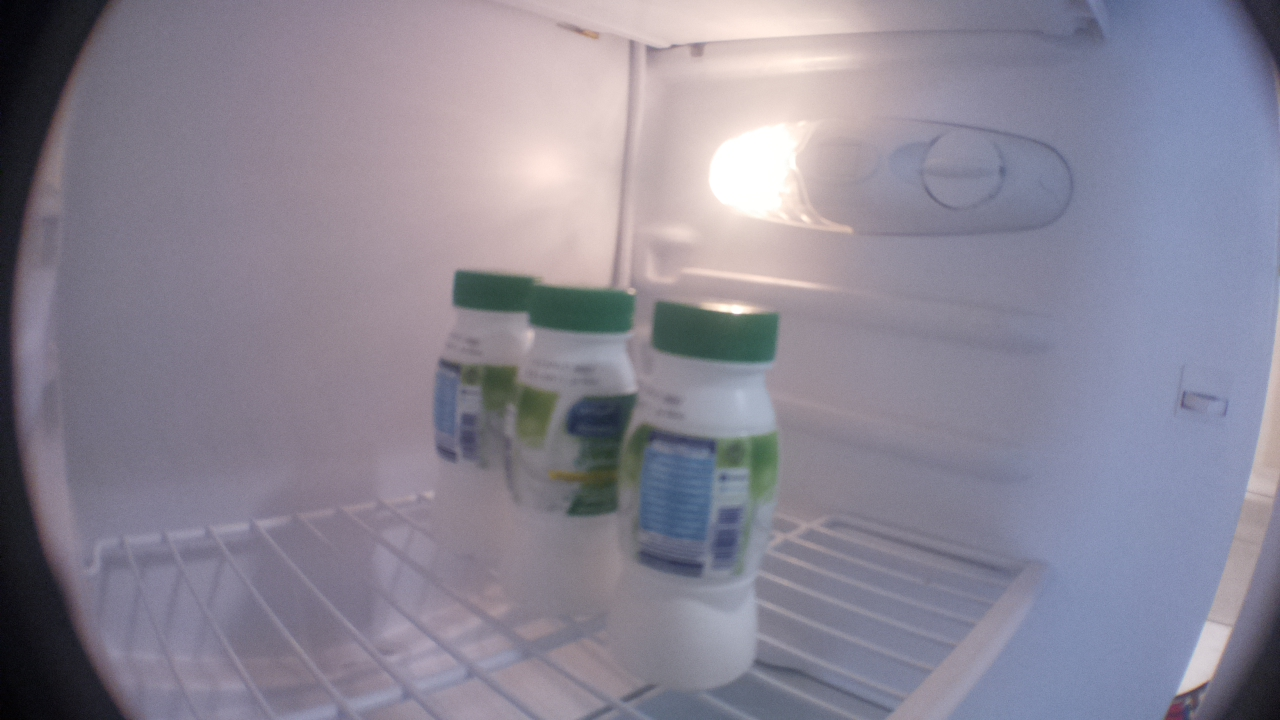laban: (612, 296, 783, 690), (506, 286, 633, 618), (432, 268, 539, 559)
